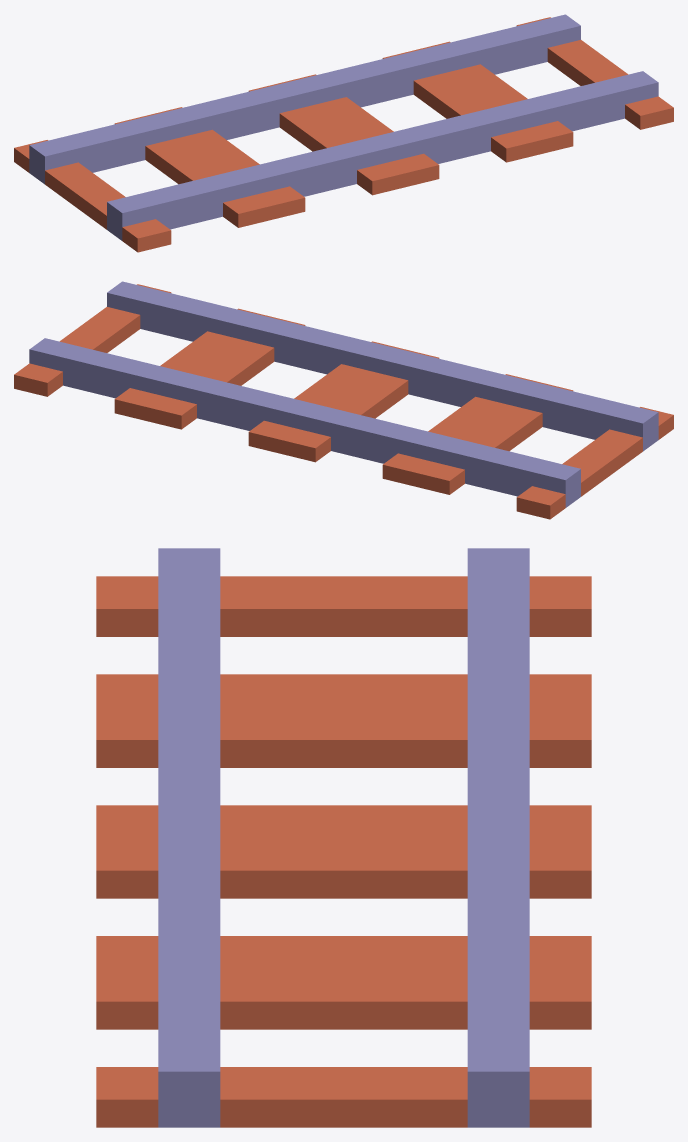
Rendered from rail-straight.fbx.
The picture shows the model from 3 angles, top to bottom: view 1: azimuth 30°, elevation 25°; view 2: azimuth 150°, elevation 25°; view 3: azimuth 270°, elevation 25°; orthographic projection. The views are drawn at different scales.
Parts seen in each view (by area): view 1: track_mineStraight; view 2: track_mineStraight; view 3: track_mineStraight.
Part boxes in pixels (x1,y1,x2,y2): track_mineStraight: [14, 14, 673, 252]; track_mineStraight: [14, 281, 673, 519]; track_mineStraight: [96, 548, 591, 1127].
Size of the model in its own units: 10 by 0.5 by 4.
